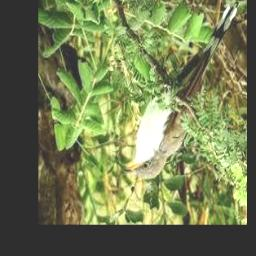Cuckoo: (121, 6, 238, 179)
